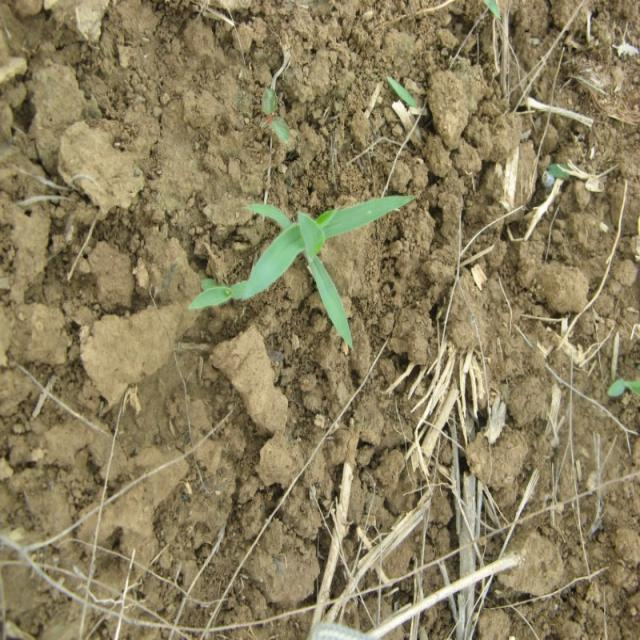bg: (242, 191, 415, 351)
